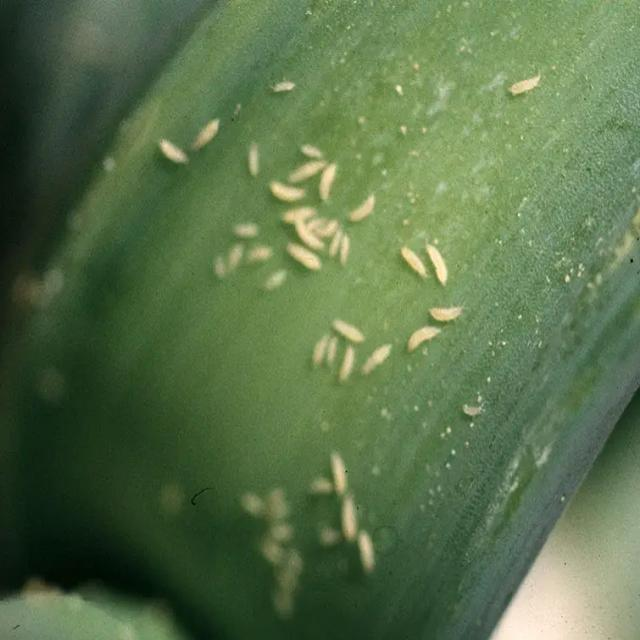Thrip-Group-: (132, 50, 506, 610)
Thrip-Larva-: (186, 114, 227, 160), (425, 238, 457, 292), (324, 445, 358, 495), (281, 235, 325, 272), (394, 242, 429, 284), (326, 309, 369, 343), (422, 296, 470, 325), (354, 530, 382, 579), (316, 151, 340, 208), (346, 185, 376, 228), (364, 340, 396, 380), (338, 494, 363, 544), (504, 68, 543, 100), (267, 174, 311, 202), (286, 157, 328, 186), (154, 134, 192, 166), (410, 322, 441, 356), (243, 134, 263, 183), (338, 341, 358, 388), (458, 400, 498, 423), (273, 204, 321, 223), (265, 72, 300, 98), (296, 142, 330, 162)
